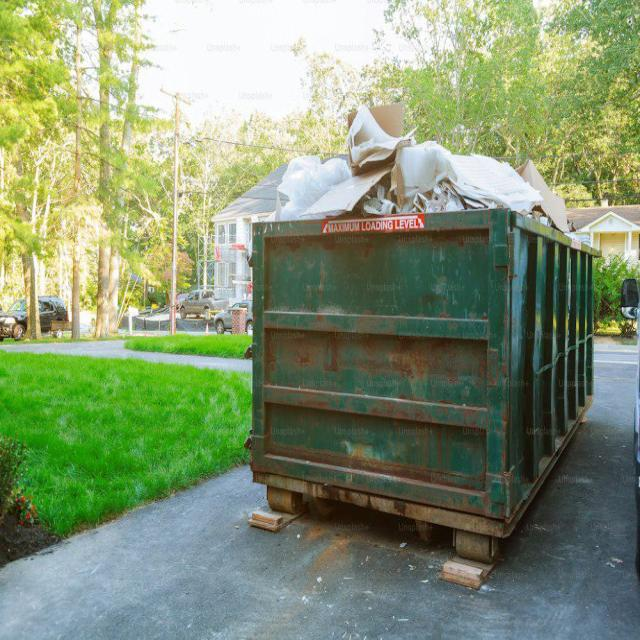cardboard: (271, 124, 549, 226)
